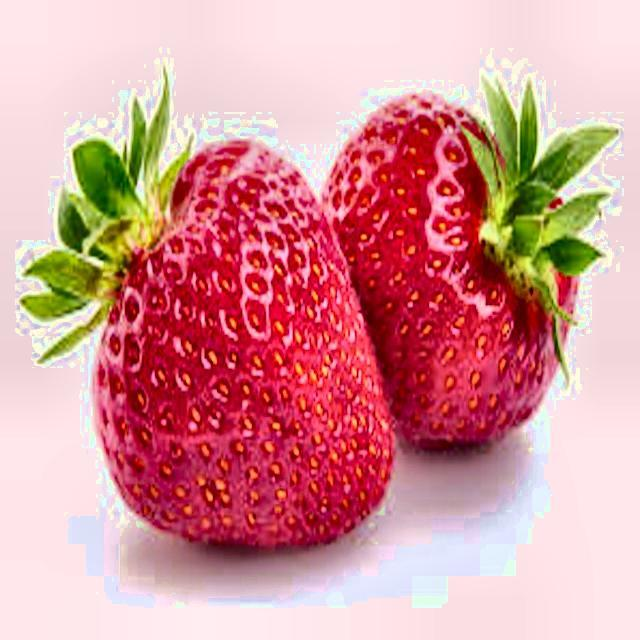strawberry: (22, 74, 392, 547), (324, 78, 619, 449)
